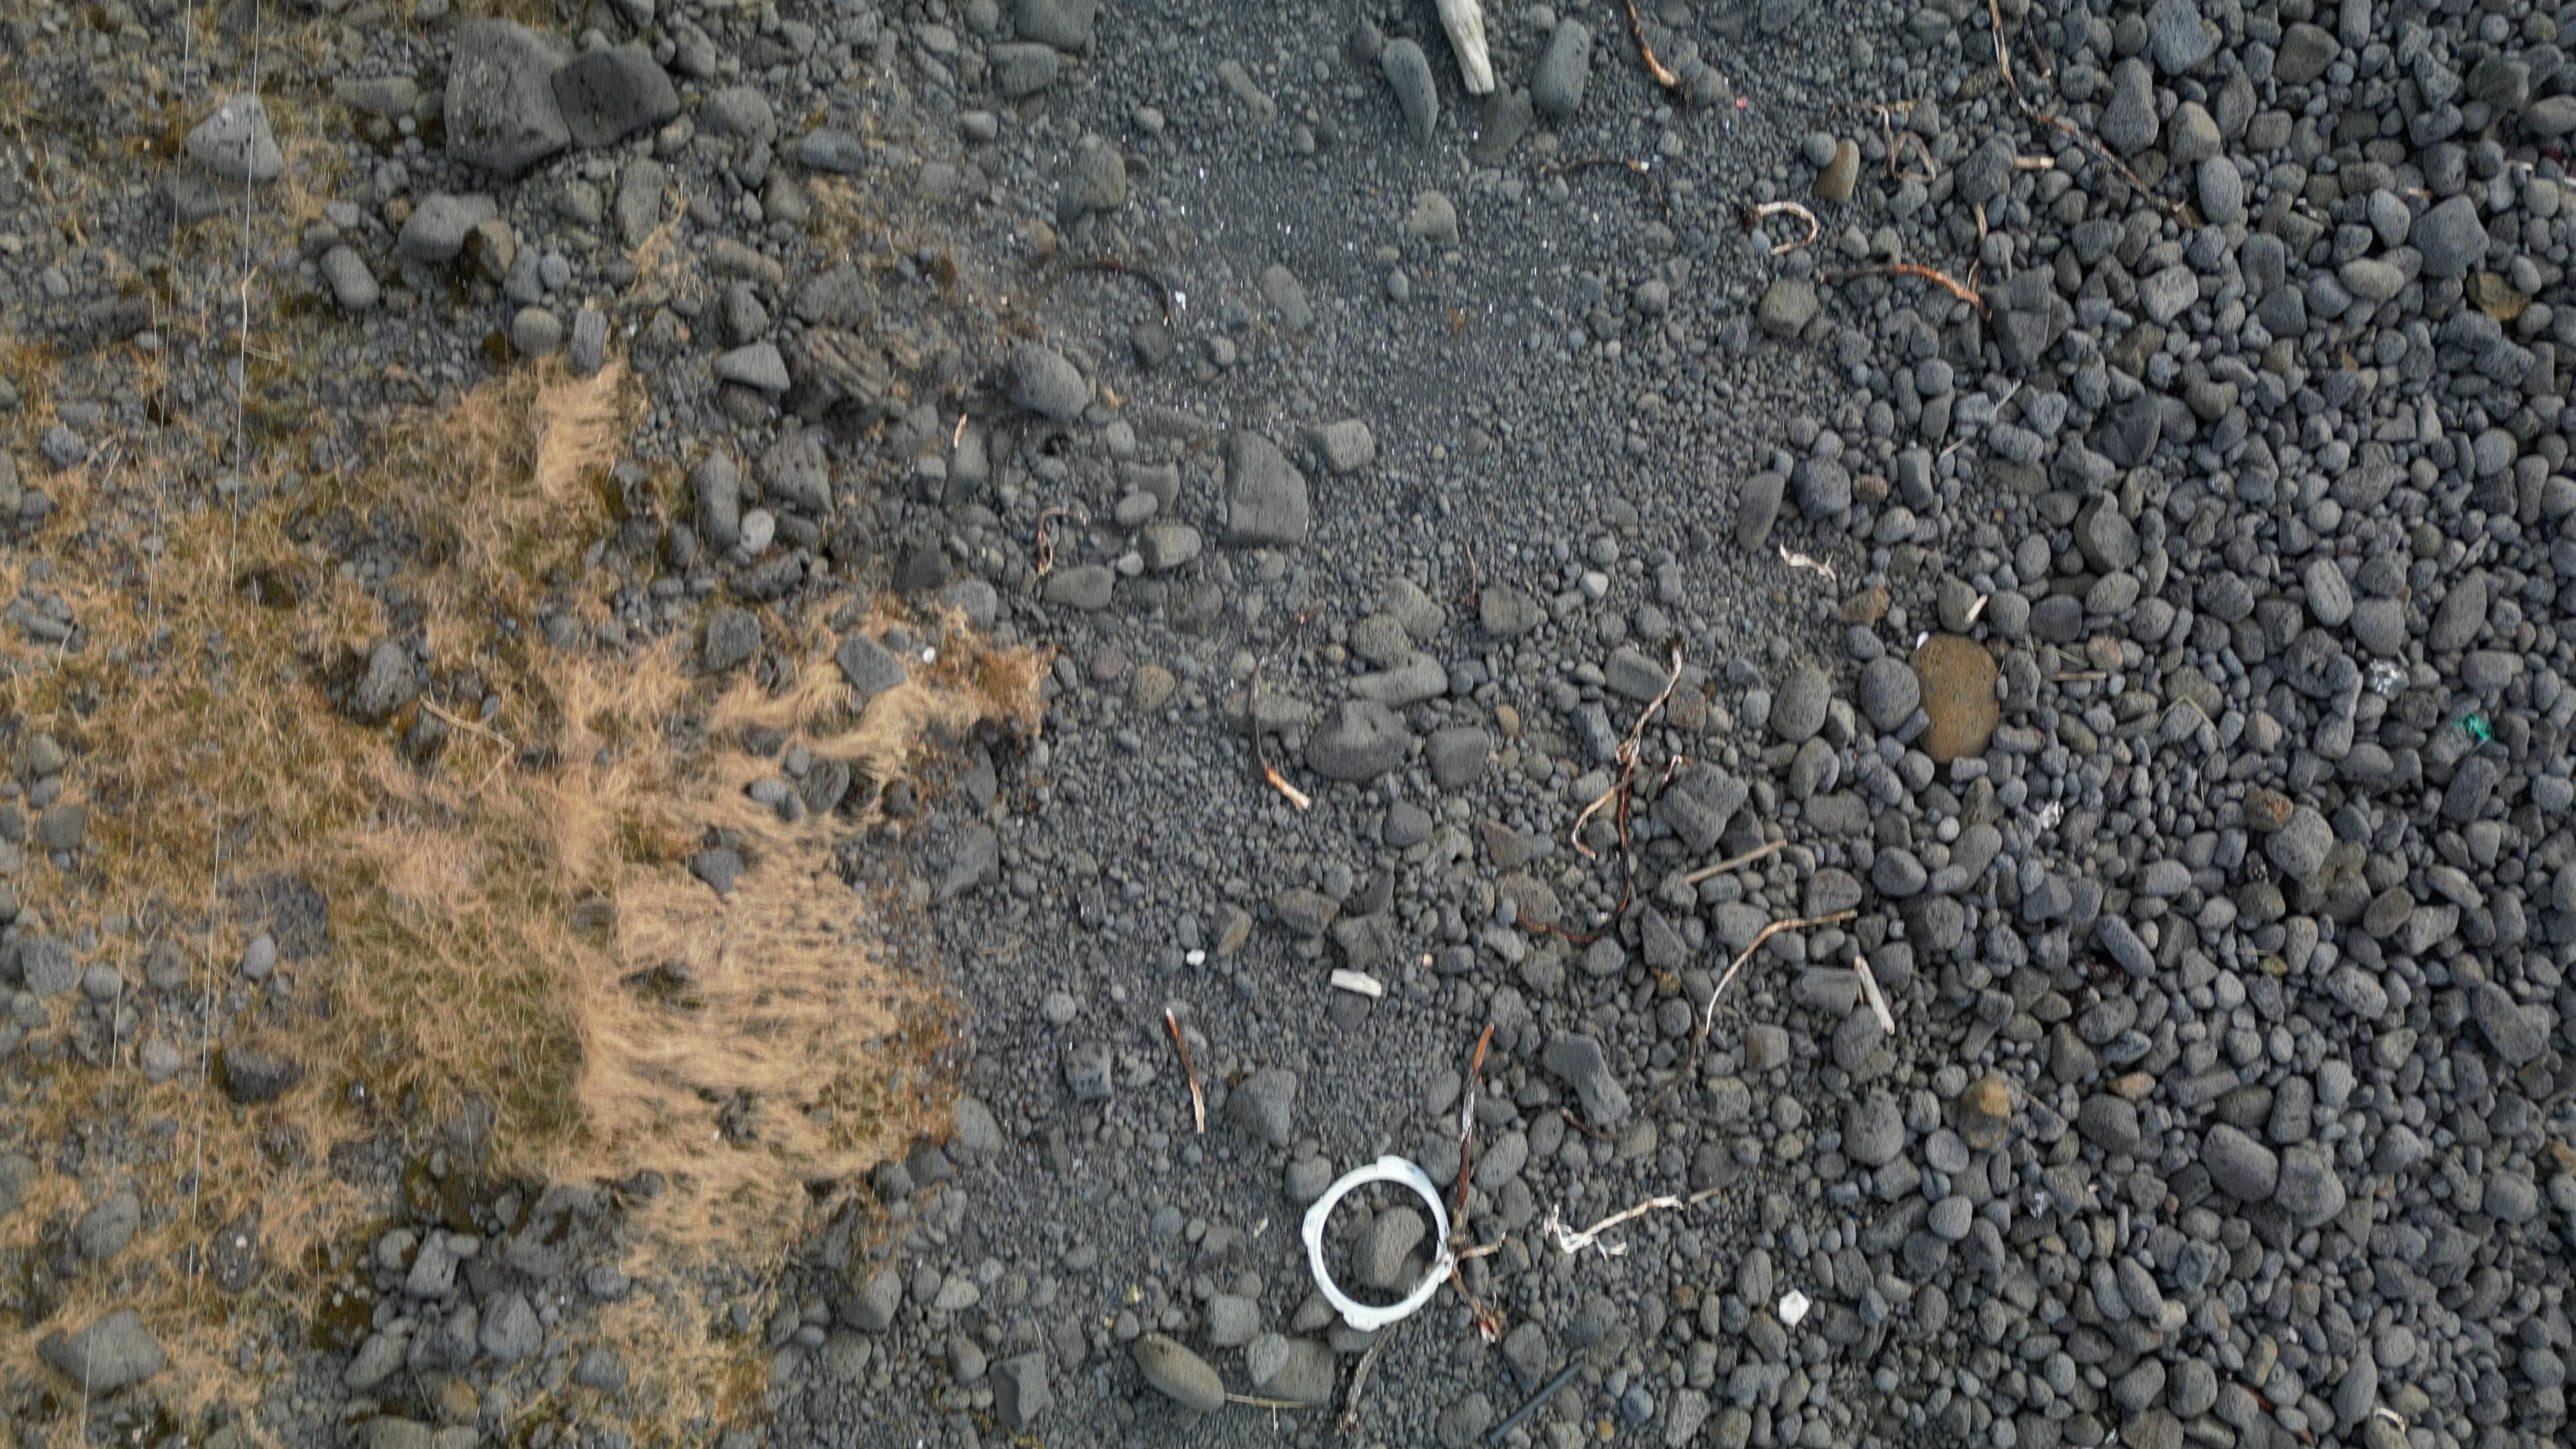trash: (1304, 1157, 1454, 1334), (1484, 1353, 1585, 1449)
